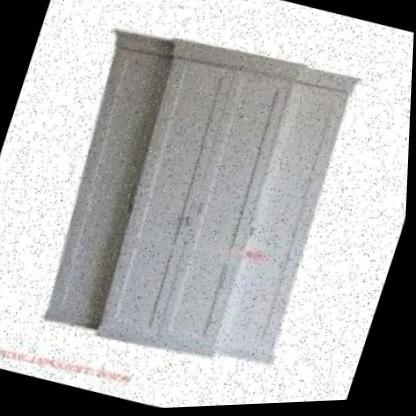Closet: (14, 3, 380, 402)
